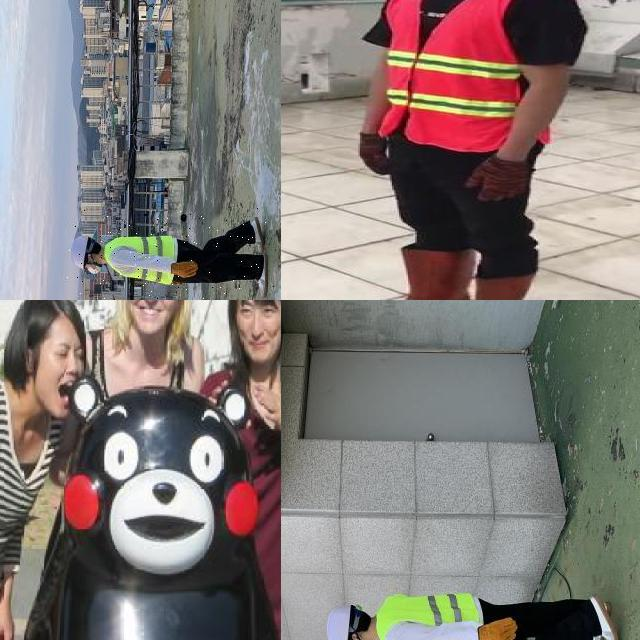No_Glasses: (45, 338, 89, 368), (231, 300, 281, 322)
boots: (358, 248, 472, 300), (438, 277, 536, 300), (585, 591, 625, 640), (252, 255, 270, 300), (247, 216, 266, 254)
face_nomask: (42, 336, 89, 406), (234, 301, 281, 358)
hand_glove: (459, 156, 529, 201), (356, 131, 391, 177)
hand_noglove: (245, 374, 281, 430), (0, 615, 21, 640)
head_helmet: (326, 600, 355, 640), (69, 234, 91, 271)
head_nohelmet: (8, 300, 82, 334)
person: (343, 0, 588, 300), (281, 552, 640, 640), (193, 300, 281, 640), (0, 300, 85, 640), (60, 208, 276, 300), (77, 300, 211, 422)
vest: (383, 0, 553, 151), (372, 591, 486, 640), (103, 234, 178, 289)
